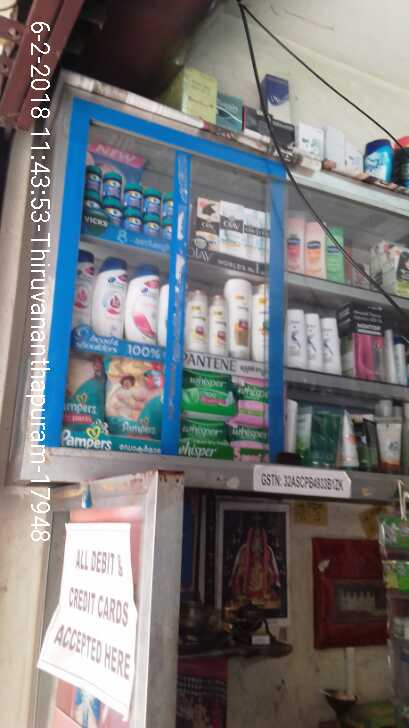vicks: (86, 161, 175, 238)
